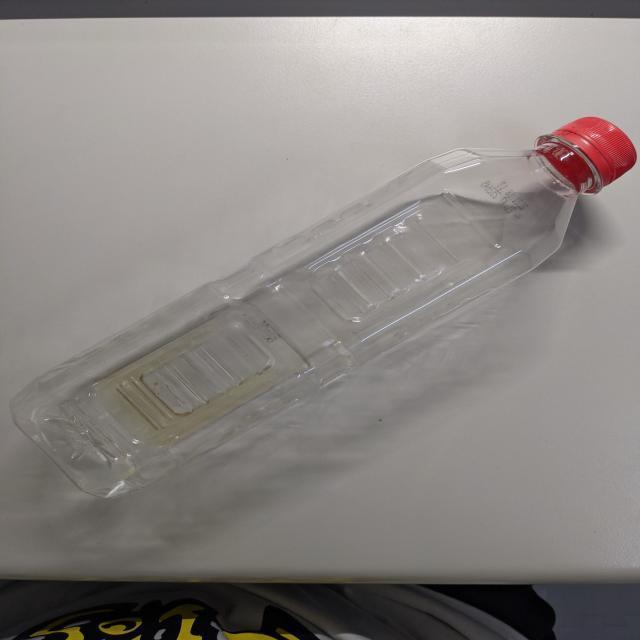Plastic: (5, 120, 640, 514)
